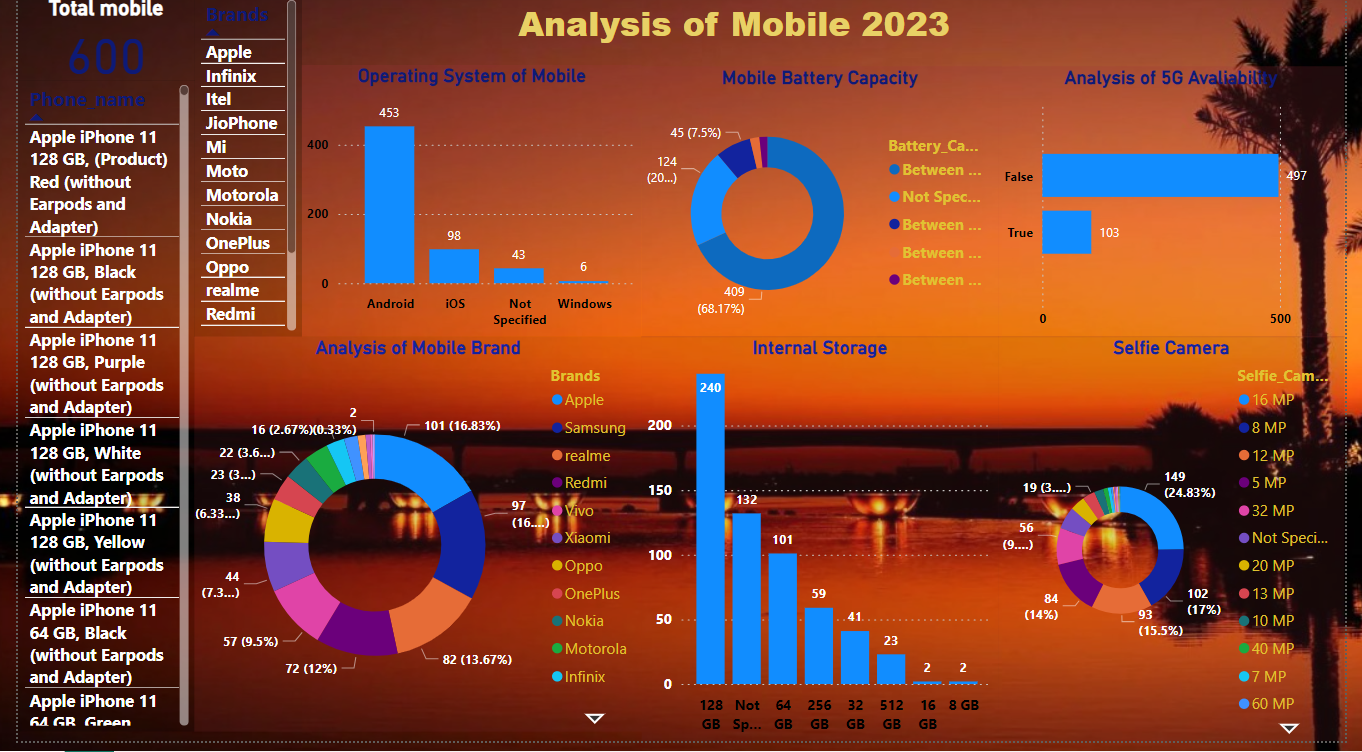

What the dashboard file says about the page in this screenshot:
{"tool":"powerbi","page":{"name":"Page 1","canvas":[1280,720],"ordinal":0},"visuals":[{"type":"card","title":"Total mobile","fields":{"Values":["Sum(Mobile.Total_Mobile)"]},"box":[0,0,170.1,82],"z":0},{"type":"tableEx","fields":{"Values":["Mobile.Phone_name"]},"box":[0,82,170.1,628.6],"z":1000},{"type":"tableEx","fields":{"Values":["Mobile.Brands"]},"box":[170.1,0,103.8,329.4],"z":2000},{"type":"donutChart","title":"Mobile Battery Capacity","fields":{"Category":["Mobile.Battery_Capacity_Range"],"Y":["Sum(Mobile.Total_Mobile)"]},"box":[602,68.8,343.8,261.8],"z":3000},{"type":"clusteredColumnChart","title":"Operating System of Mobile","fields":{"Category":["Mobile.Operating_System_Type"],"Y":["Sum(Mobile.Total_Mobile)"]},"box":[273.9,67.6,328.2,261.8],"z":4000},{"type":"barChart","title":"Analysis of 5G Avaliability","fields":{"Category":["Mobile._5G_Availability"],"Y":["Sum(Mobile.Total_Mobile)"]},"box":[945.8,68.8,334.2,261.8],"z":5000},{"type":"donutChart","title":"Analysis of Mobile Brand","fields":{"Category":["Mobile.Brands"],"Y":["Sum(Mobile.Total_Mobile)"]},"box":[170.1,329.4,431.9,381.2],"z":6000},{"type":"columnChart","title":"Internal Storage","fields":{"Category":["Mobile.Internal_Storage"],"Y":["Sum(Mobile.Total_Mobile)"]},"box":[602,329.4,343.8,390.9],"z":7000},{"type":"donutChart","title":"Selfie Camera","fields":{"Category":["Mobile.Selfie_Camera"],"Y":["Sum(Mobile.Total_Mobile)"]},"box":[945.8,329.4,334.2,390.9],"z":8000},{"type":"textbox","box":[477.8,0,452.4,55.5],"z":9000}]}

Visuals, with their boxes in screenshot pixels (x1, y1, x2, y2), scaled from the page's 1280x720 canvas onto the 1362x752 screenshot:
"Total mobile" card: [x1=0, y1=0, x2=181, y2=86]
tableEx - Mobile.Phone_name: [x1=0, y1=86, x2=181, y2=742]
tableEx - Mobile.Brands: [x1=181, y1=0, x2=291, y2=344]
"Mobile Battery Capacity" donutChart: [x1=641, y1=72, x2=1006, y2=345]
"Operating System of Mobile" clusteredColumnChart: [x1=291, y1=71, x2=641, y2=344]
"Analysis of 5G Avaliability" barChart: [x1=1006, y1=72, x2=1361, y2=345]
"Analysis of Mobile Brand" donutChart: [x1=181, y1=344, x2=641, y2=742]
"Internal Storage" columnChart: [x1=641, y1=344, x2=1006, y2=751]
"Selfie Camera" donutChart: [x1=1006, y1=344, x2=1361, y2=751]
textbox: [x1=508, y1=0, x2=990, y2=58]
